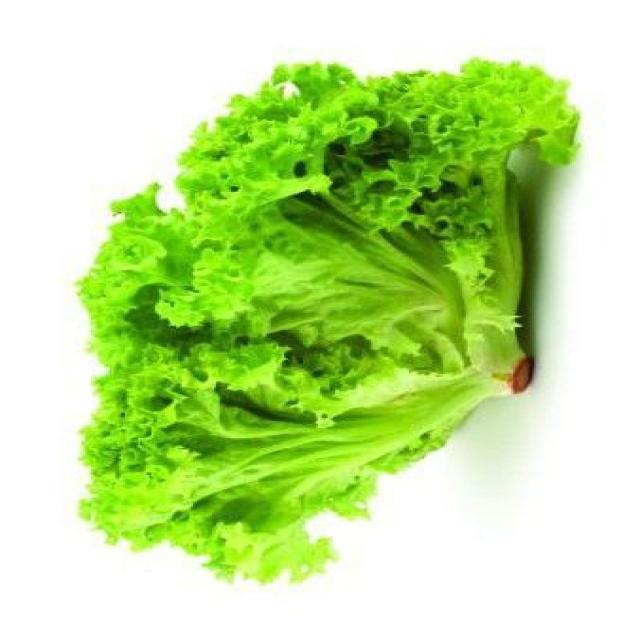lettuce: (82, 60, 577, 580)
